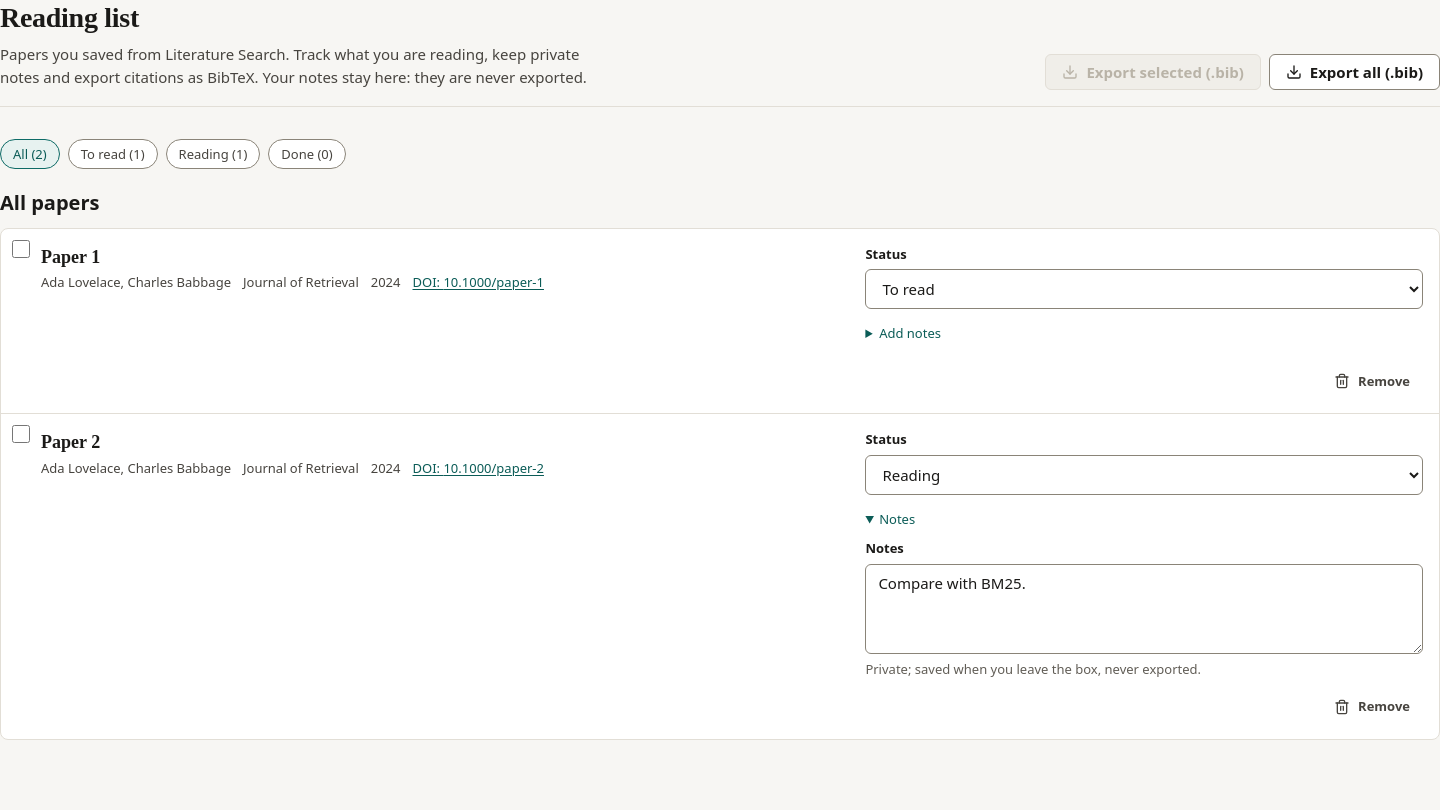
reading list states (P7) › asks before removing and keeps the paper when removal fails
Check: the heading "Paper 1" is shown, box [41,247,100,267]
Click the button with aria-label "Remove Paper 1" at (1372, 382), box [1321,366,1423,398]
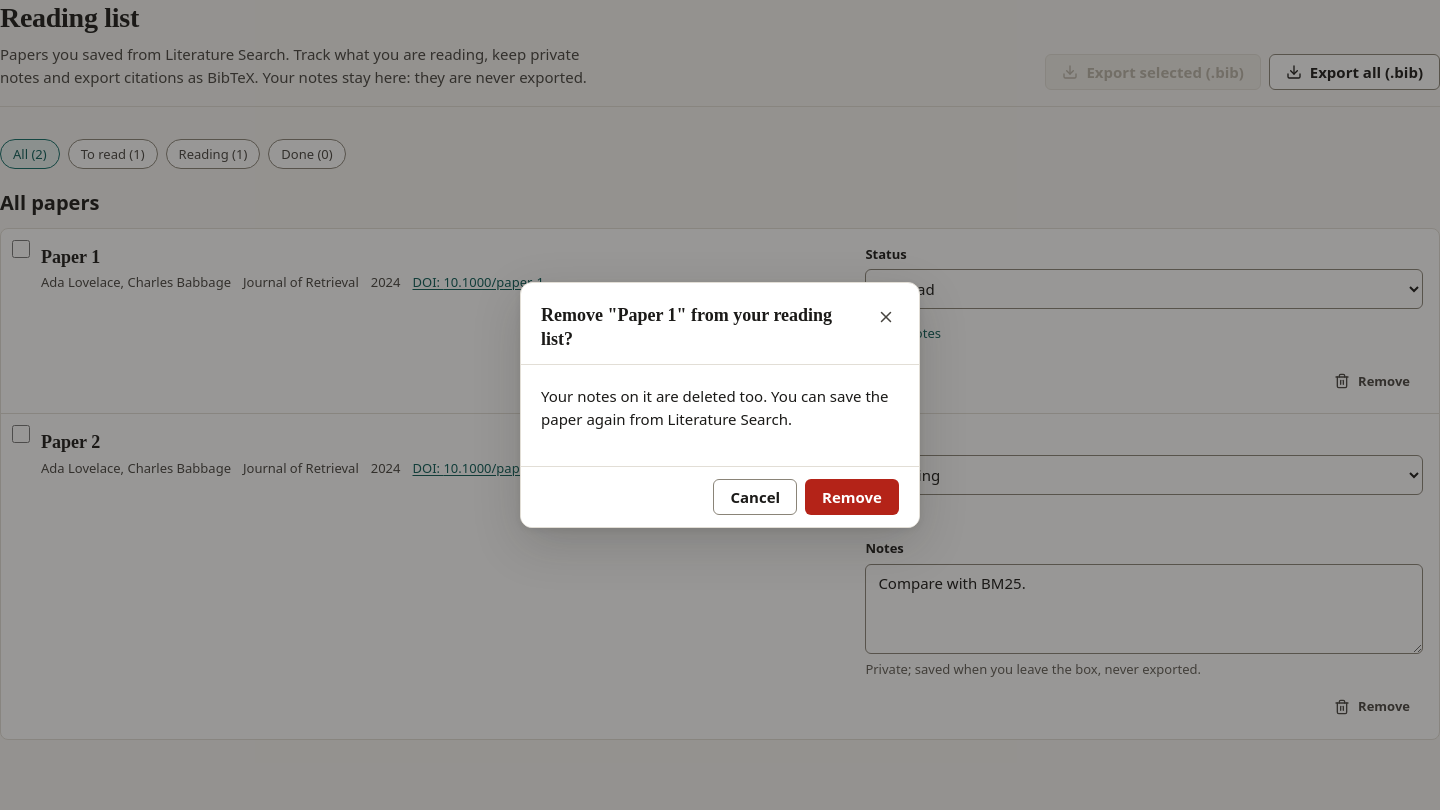
Check: the text "Your notes on it are deleted too. You can save the paper again from Literature Search." is shown, box [541,386,889,429]
Click the button "Remove" at (852, 497), box [805,479,899,515]
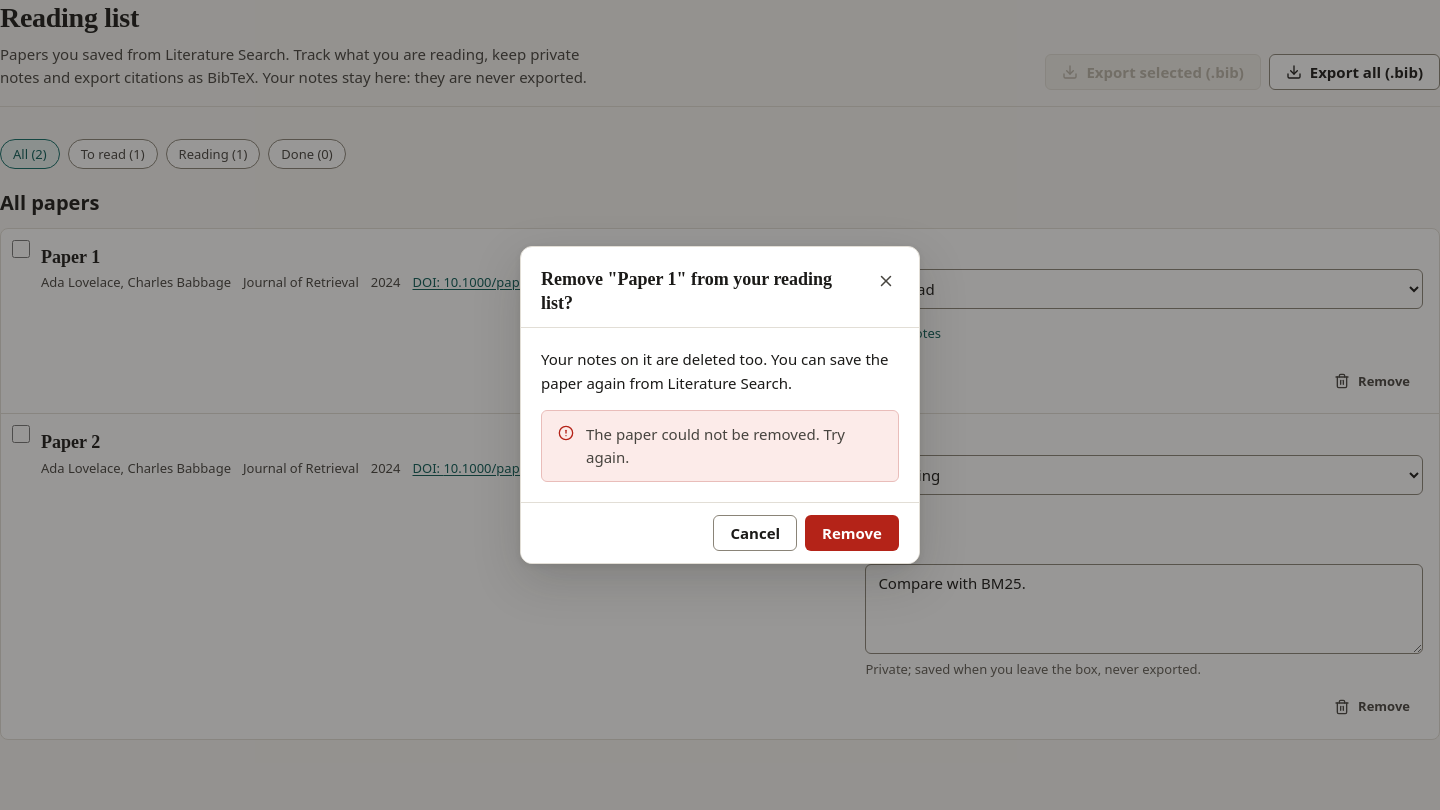
Check: the heading "Paper 1" is shown, box [41,247,100,267]
Check: the message reads "The paper could not be removed. Try again.", box [586,424,845,467]
